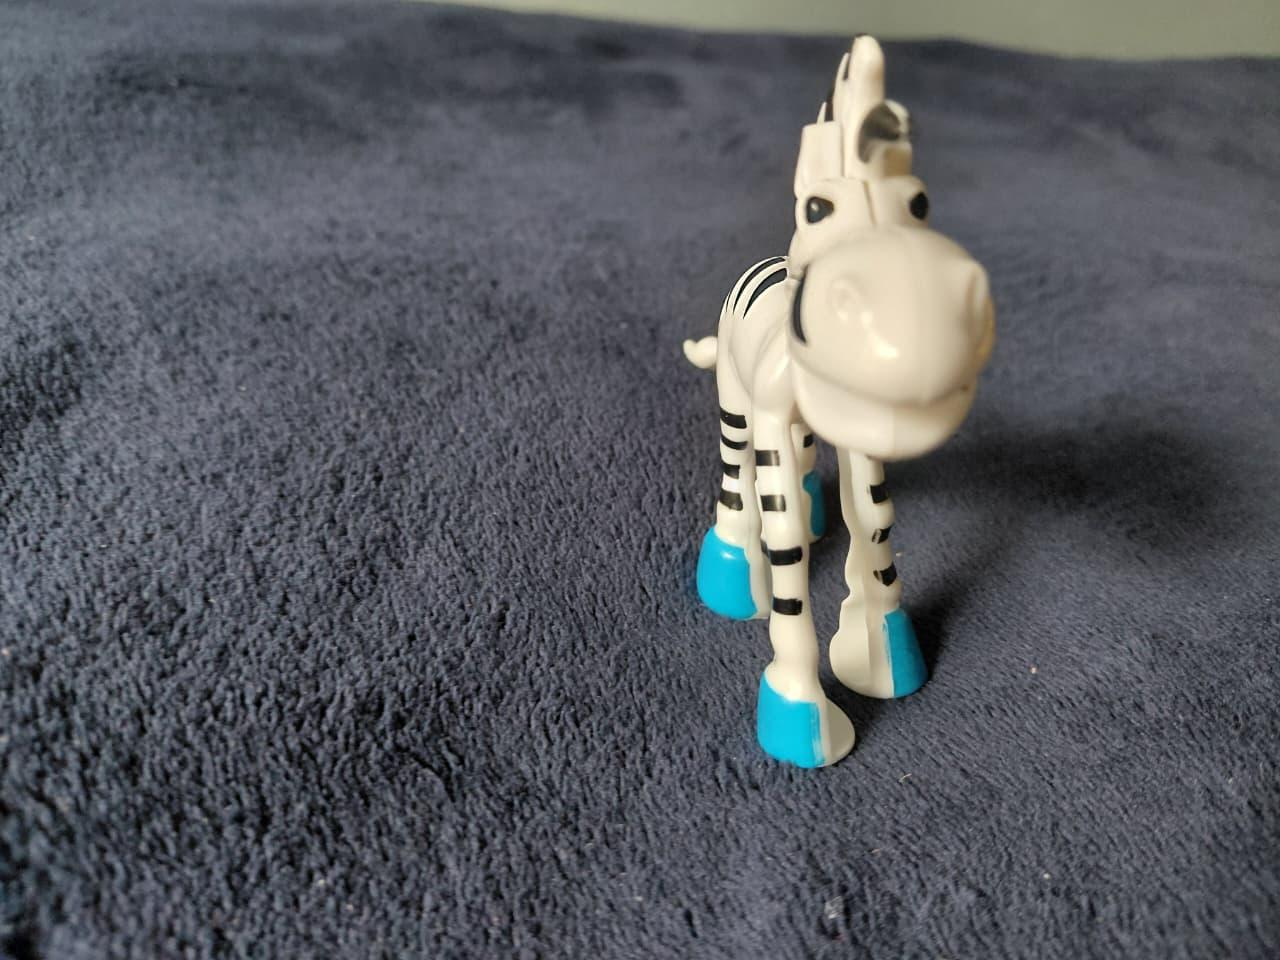zebra: (664, 22, 1035, 783)
